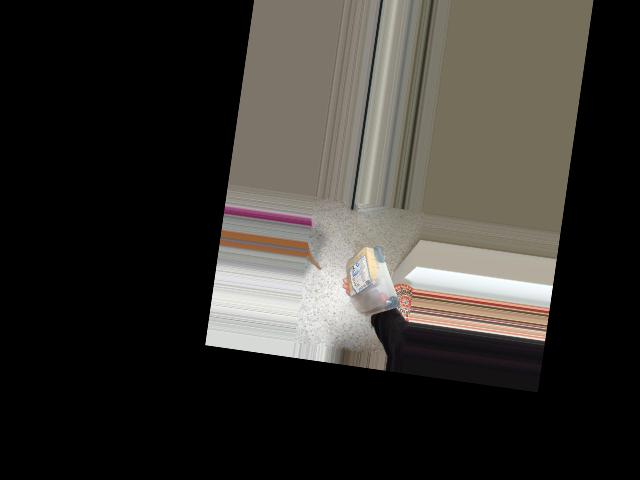cheese: (336, 239, 406, 330)
